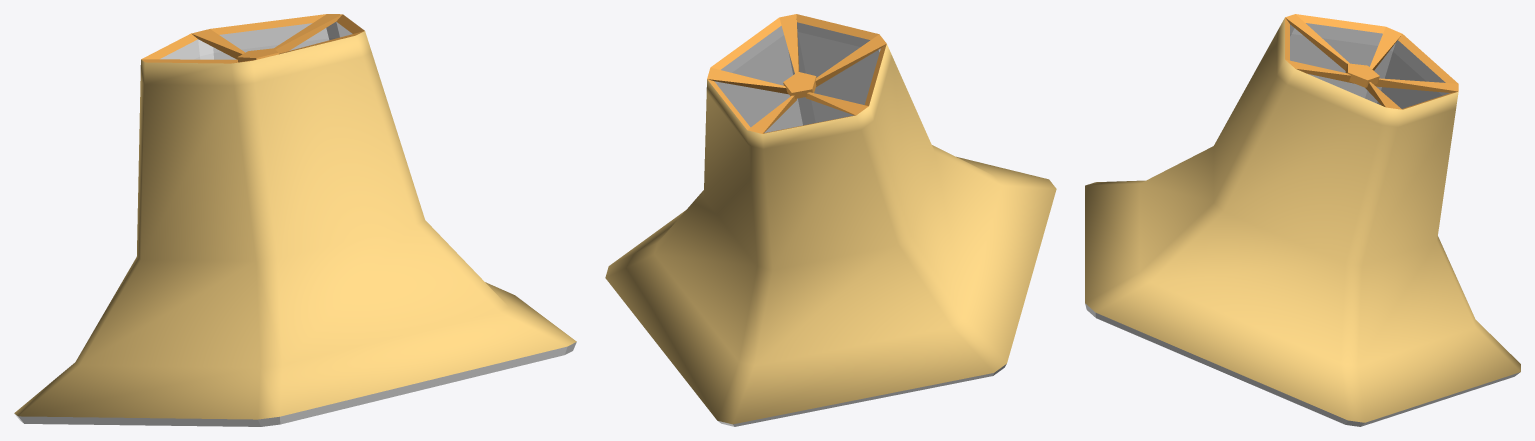
The model's file is lampshade.fbx.
3 renders of one model, left to right at view 1: azimuth 30°, elevation 25°; view 2: azimuth 150°, elevation 25°; view 3: azimuth 270°, elevation 25°, orthographic. The views are drawn at different scales.
Parts seen in each view (by area): view 1: lampshade; view 2: lampshade; view 3: lampshade.
Boxes of the visible parts, x1,y1,x2,y2 form: lampshade: [14, 14, 576, 426]; lampshade: [605, 14, 1056, 426]; lampshade: [1085, 14, 1520, 426].
Size of the model in its own units: 53.31 by 41.01 by 48.38.
